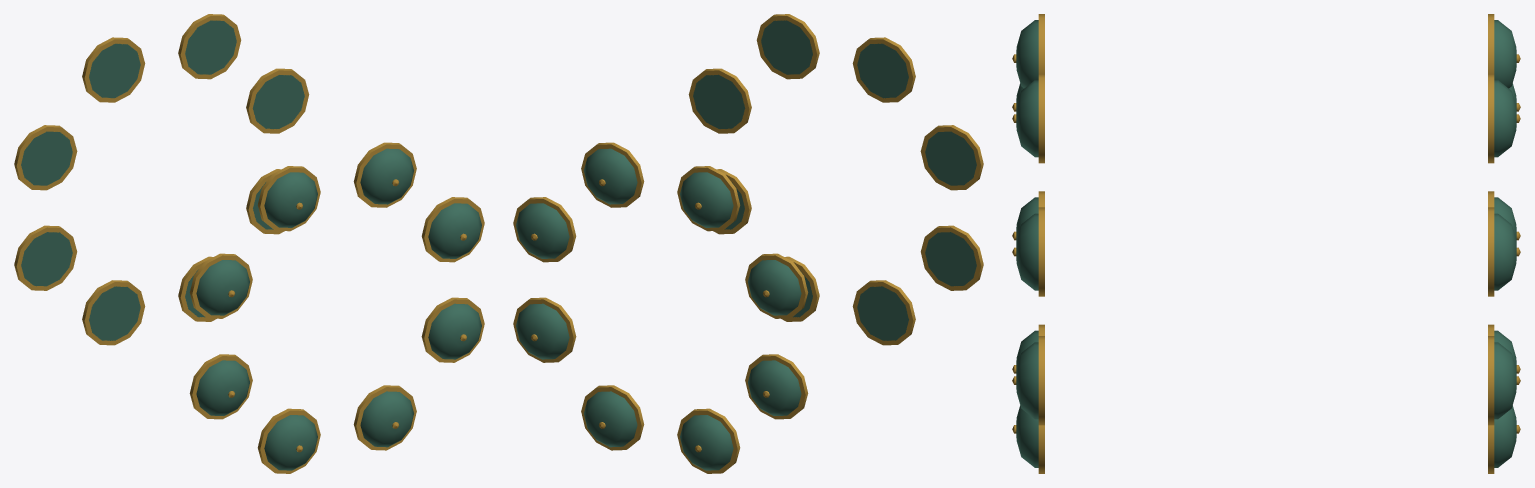
Rendered from h80_dampers.obj.
3 views of the same model, side by side, from view 1: azimuth 30°, elevation 25°; view 2: azimuth 150°, elevation 25°; view 3: azimuth 270°, elevation 25° (orthographic). The views are drawn at different scales.
Visible parts, largest first — view 1: h80_dampers; view 2: h80_dampers; view 3: h80_dampers.
Boxes of the visible parts, left/top/right/bottom form: h80_dampers: left=14, top=14, right=484, bottom=473; h80_dampers: left=513, top=14, right=983, bottom=473; h80_dampers: left=1012, top=14, right=1520, bottom=473.
Bounding box in the file's own units: 4.23 × 4.23 × 4.98.
